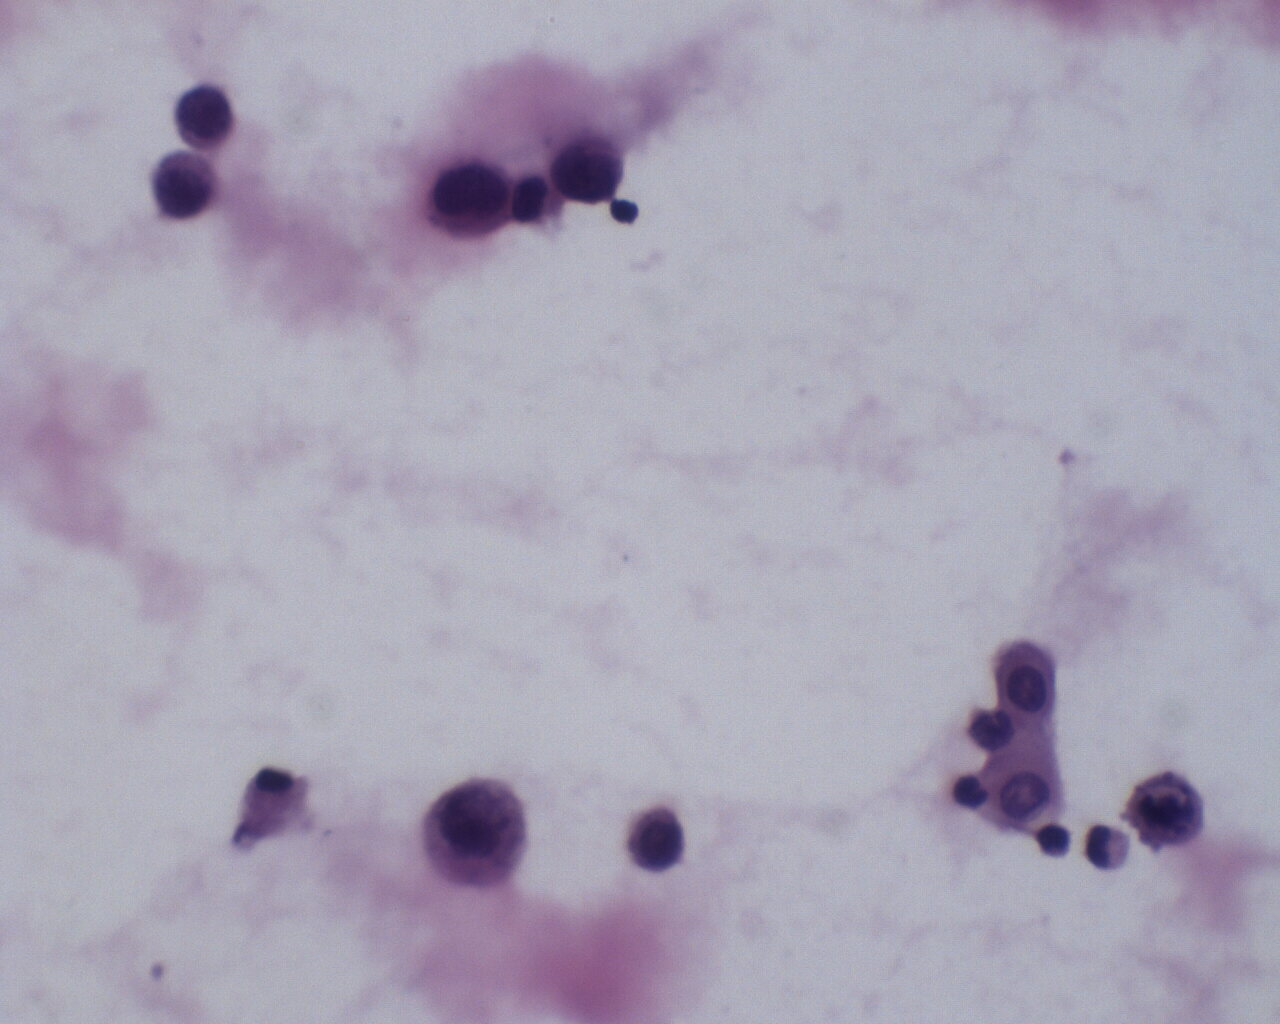ab: (416, 773, 531, 889), (421, 159, 515, 243), (1126, 770, 1212, 855), (549, 131, 625, 208), (152, 144, 218, 220), (170, 83, 245, 150), (623, 802, 688, 878)
histo: (239, 761, 309, 842)
meso: (975, 728, 1067, 838), (991, 639, 1058, 725)
